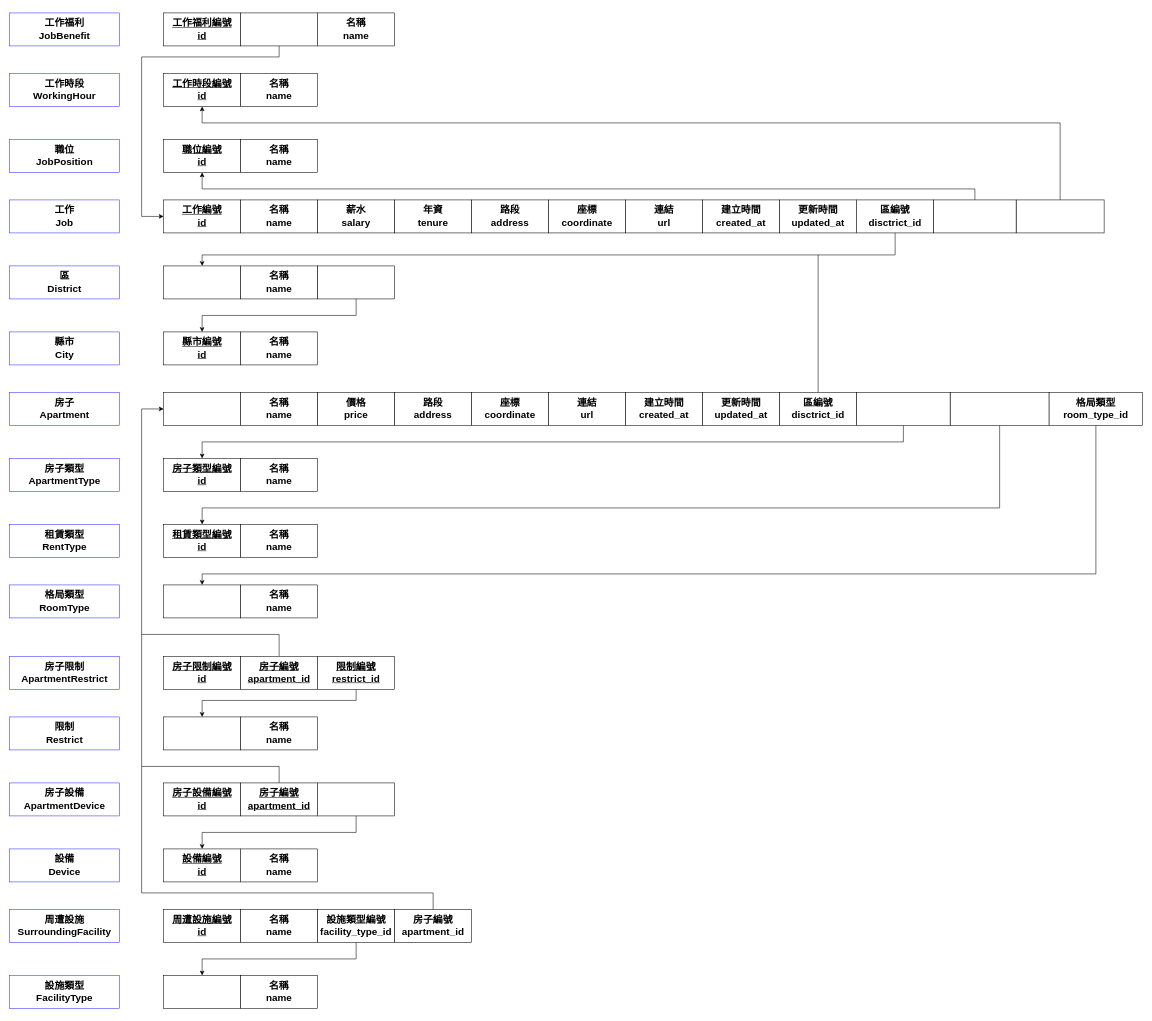
The diagram is 1152 pixels wide and 1021 high, and some of its shapes have lost their labels. Here are the shapes that lost their labels. From the top down, the box of each, then its label:
(240, 12, 318, 46): 工作編號 job_id
(933, 199, 1016, 233): 職位編號 job_position_id
(1016, 199, 1104, 233): 工作時段編號 working_hour_id
(163, 265, 241, 299): 區編號 id
(317, 265, 395, 299): 縣市編號 city_id
(163, 392, 241, 425): 房子編號 id
(856, 392, 950, 425): 房子類型編號 apartment_type_id
(950, 392, 1049, 425): 租賃類型 rent_type_id
(163, 584, 241, 618): 格局類型編號 id
(163, 716, 241, 750): 限制編號 id
(317, 782, 395, 816): 設備編號 device_id
(163, 975, 241, 1008): 設施類型編號 id
